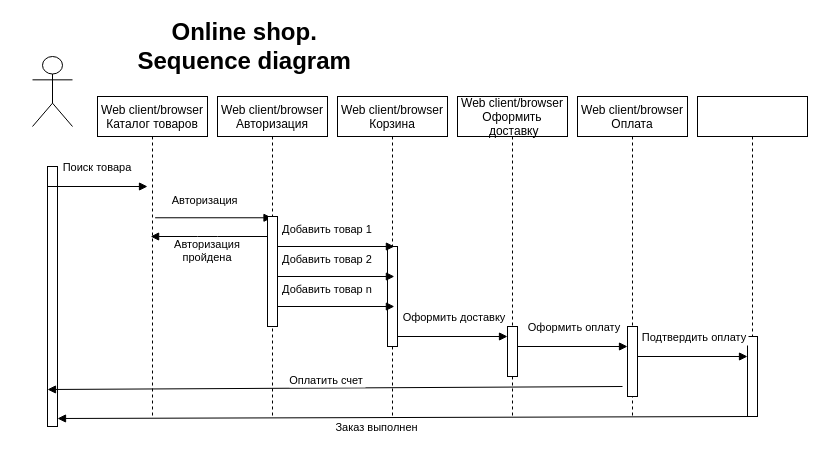
Some shapes in this 825 by 451 pixel diagram are drawn without their labels. The shapes that lost their labels are listed below. From the top down, each one's box as (x1, y1, x2, y2) in pixels, then its label:
(32, 56, 72, 126): Покупатель
(696, 96, 808, 416): Web client/browser Подтверждение
